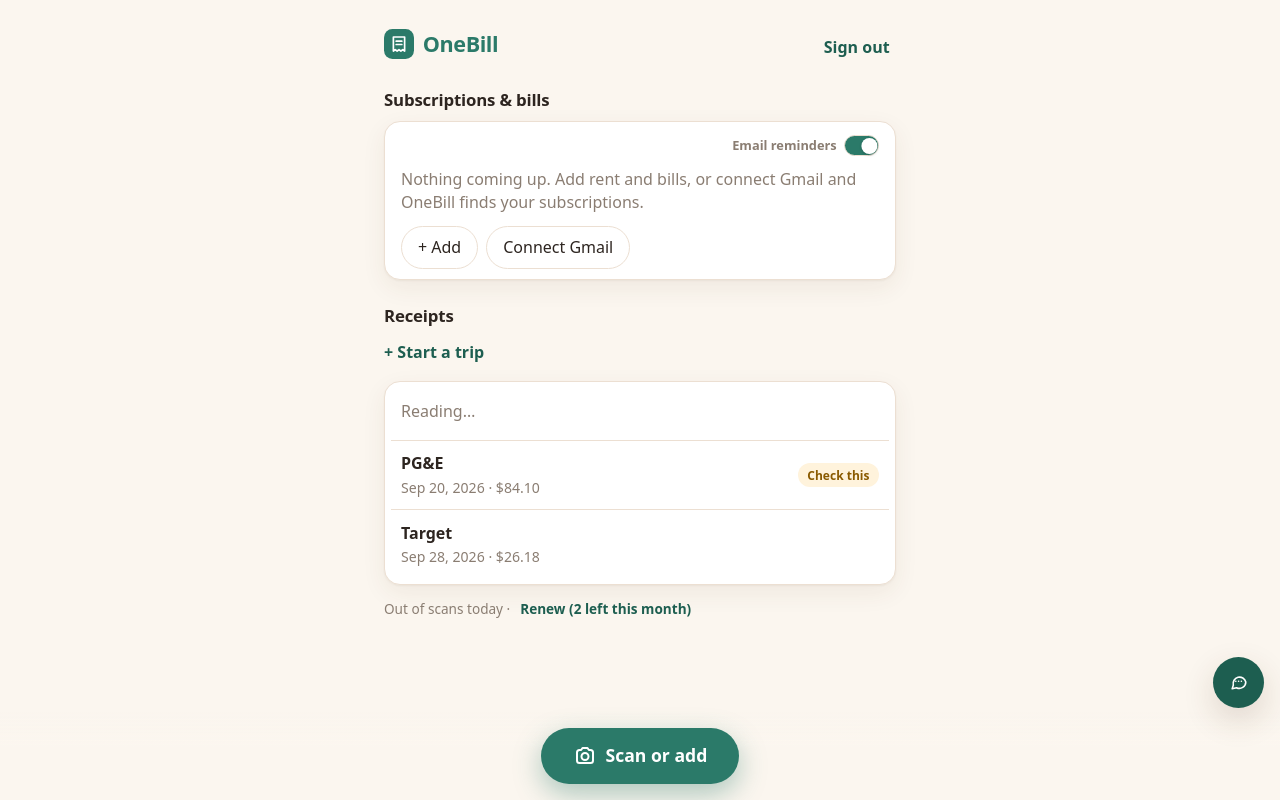
Test: Home — signed in › renews today's scans once they're used up
Click the button "Renew (2 left this month)": click(606, 609) [514,595,698,623]
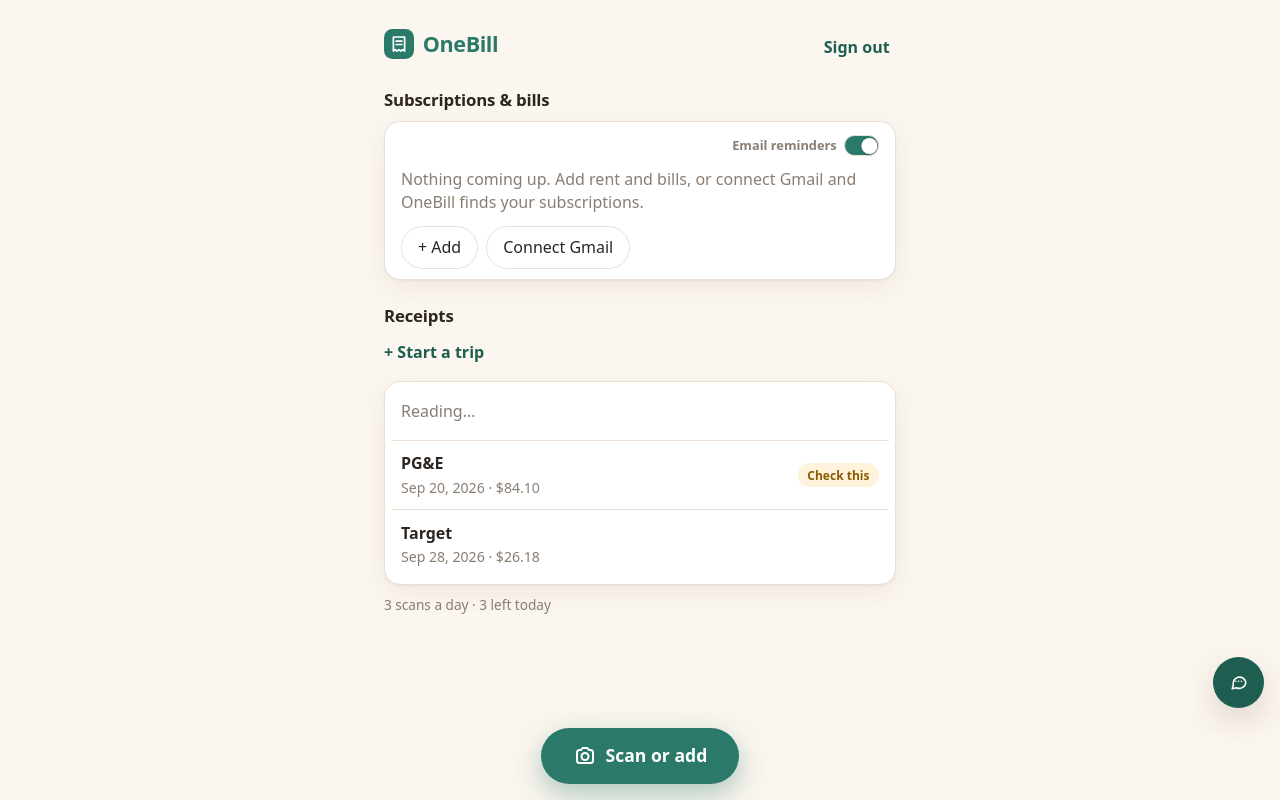
Check: the text "3 scans a day · 3 left today" is shown, box [384,595,551,614]
